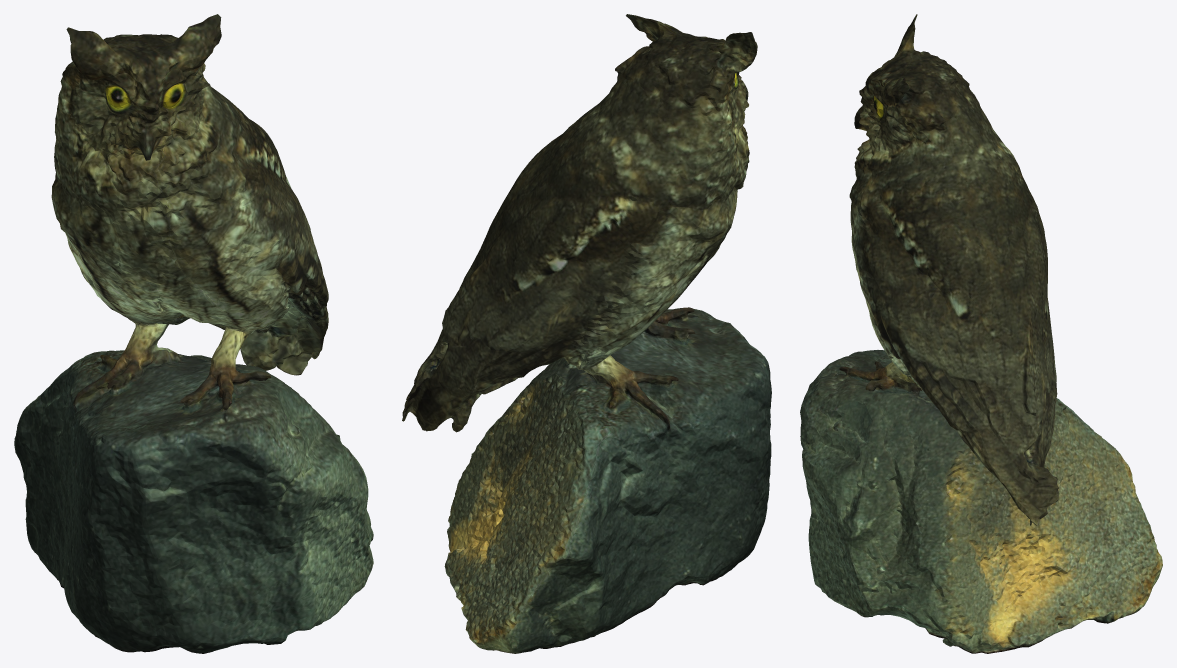
Rendered from Scops owl.glb.
3 views of the same model, side by side, from view 1: azimuth 30°, elevation 25°; view 2: azimuth 150°, elevation 25°; view 3: azimuth 270°, elevation 25° (orthographic). The views are drawn at different scales.
Parts seen in each view (by area): view 1: Group13028; view 2: Group13028; view 3: Group13028.
Boxes of the visible parts, box(x1,y1,x2,y2) form: Group13028: box(14, 14, 373, 653); Group13028: box(402, 14, 771, 653); Group13028: box(800, 14, 1162, 653).
Size of the model in its own units: 0.115 by 0.2192 by 0.1353.
Materials: 1 (1 with a texture image).
